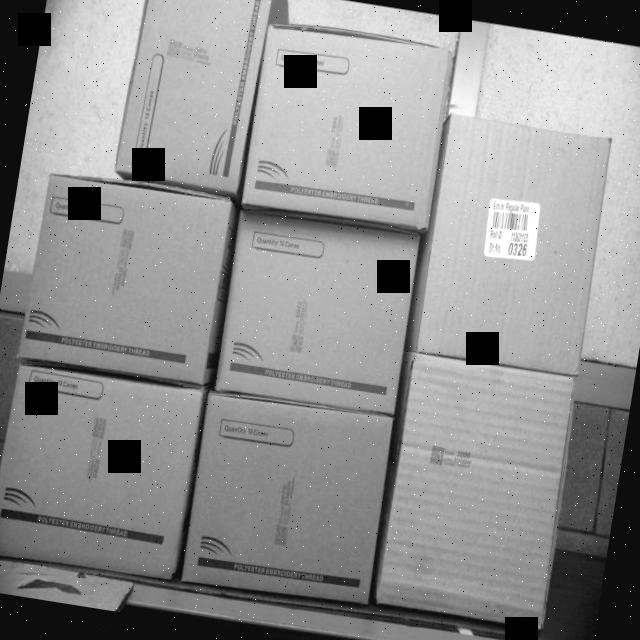box: (378, 355, 582, 631), (415, 110, 616, 372), (182, 388, 396, 612), (20, 173, 235, 386), (242, 18, 454, 231), (212, 207, 421, 410), (0, 366, 202, 576), (113, 0, 270, 195)
